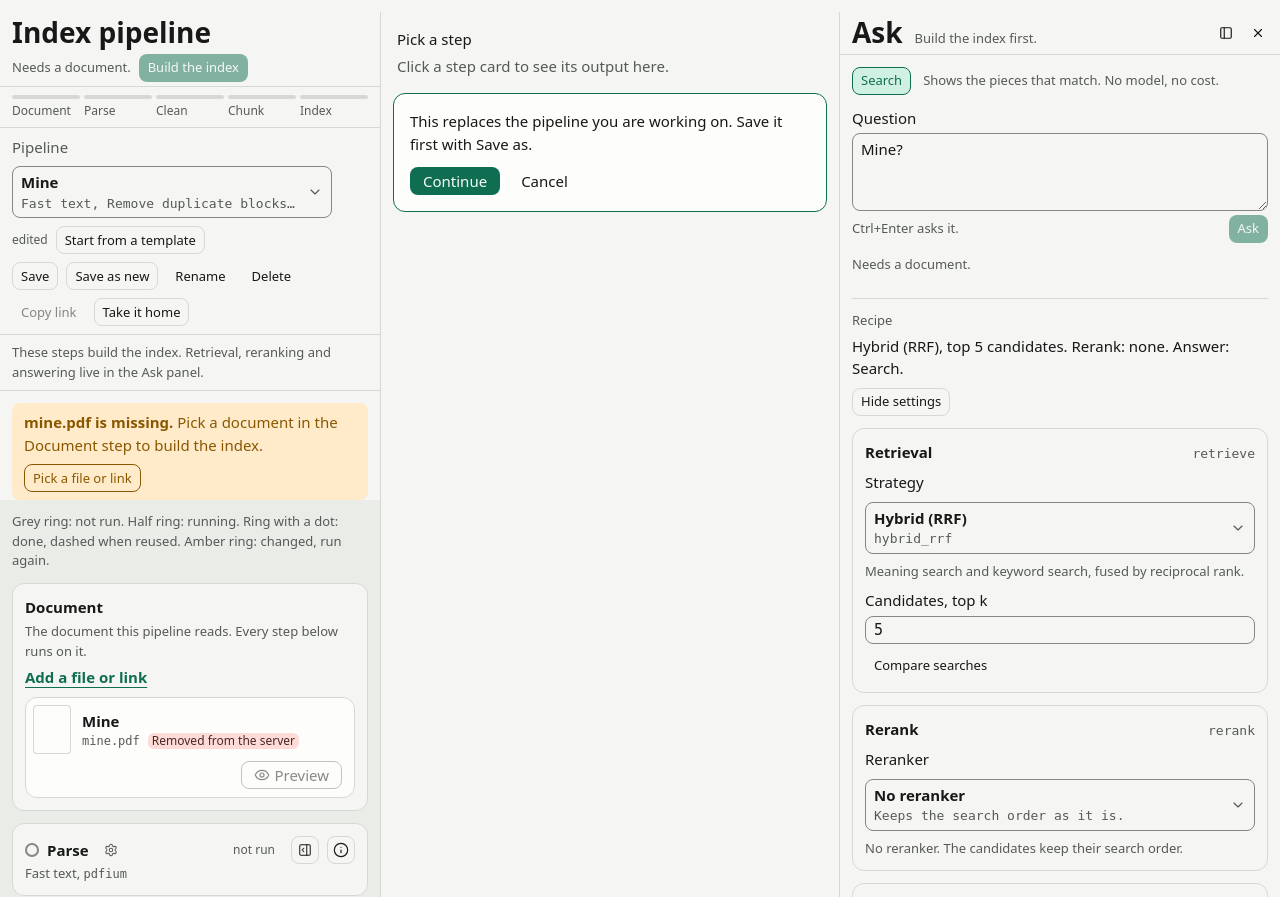
Test: the guided run on Build › opened by a link › with unsaved work it shows the replace warning instead of replacing
Expected: the text "This replaces the pipeline you are working on" is shown, [410,111,782,154]
Expected: the element "Guided run" is not shown
Step 1. Click the button "Continue" → x=455, y=181, box [410,167,500,195]
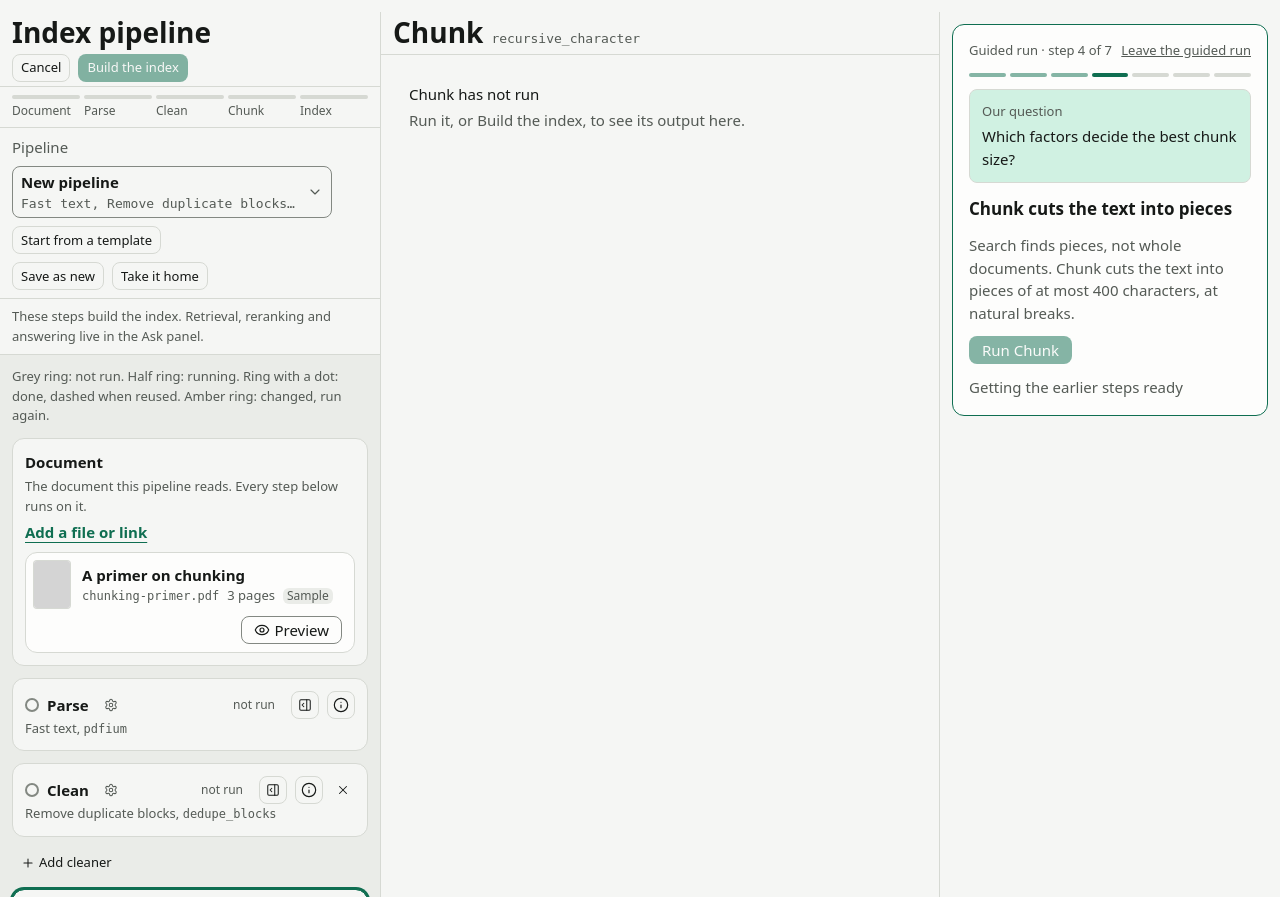
Now the text "Guided run · step 4 of 7" is shown, box [969,41,1112,60]
